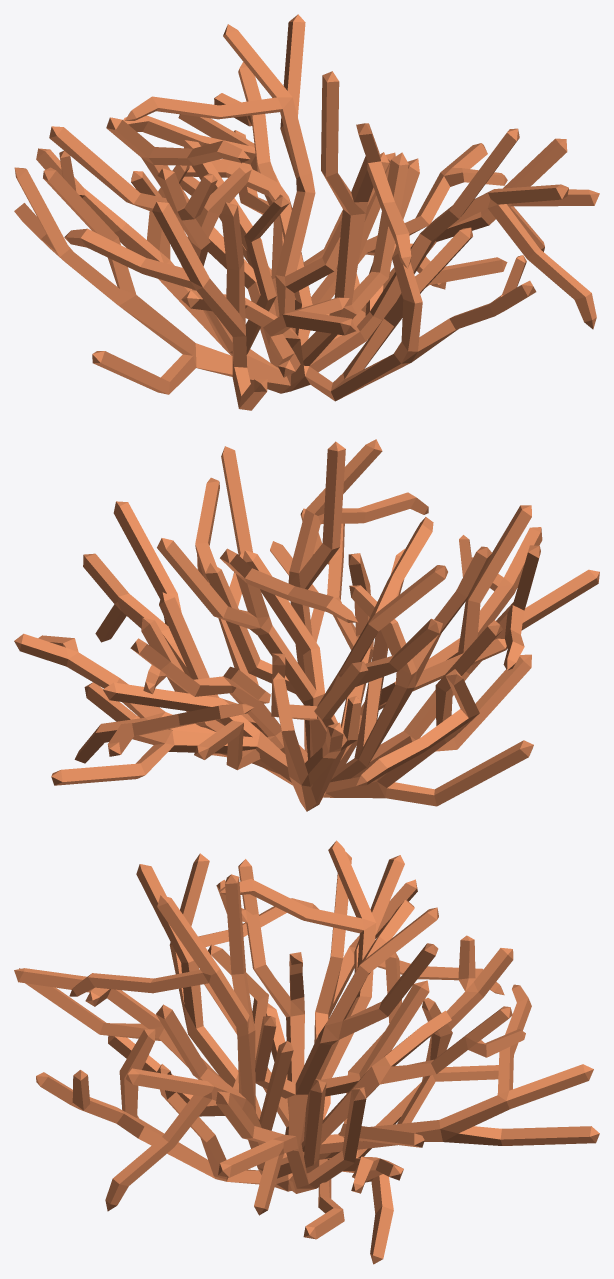
The model's file is Coral08.fbx.
The picture shows the model from 3 angles, top to bottom: view 1: azimuth 30°, elevation 25°; view 2: azimuth 150°, elevation 25°; view 3: azimuth 270°, elevation 25°; orthographic projection. The views are drawn at different scales.
Parts seen in each view (by area): view 1: Coral08; view 2: Coral08; view 3: Coral08.
Boxes of the visible parts, x1=… form: Coral08: x1=14, y1=14, x2=599, y2=410; Coral08: x1=14, y1=439, x2=599, y2=811; Coral08: x1=14, y1=840, x2=599, y2=1264.
Bounding box in the file's own units: 3.21 × 2.12 × 3.48.
